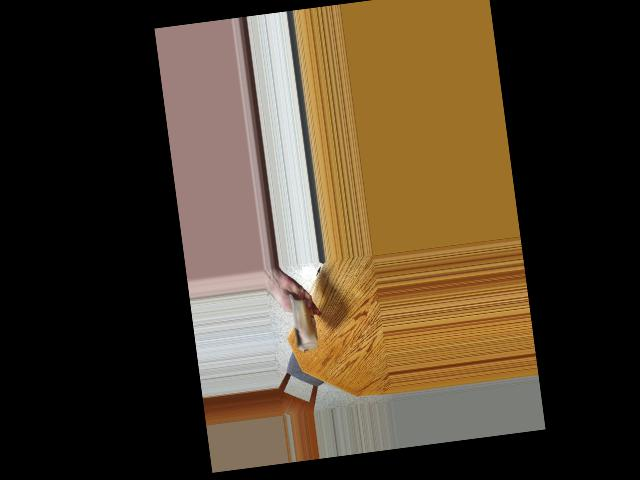cheese: (279, 294, 320, 350)
